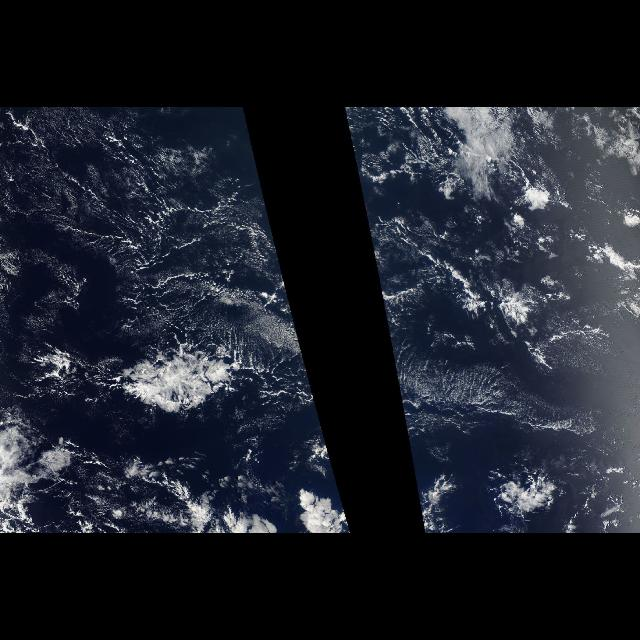Fish: (34, 331, 318, 413)
Sugar: (0, 107, 232, 333)
